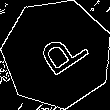P_SW: (26, 25, 88, 83)
